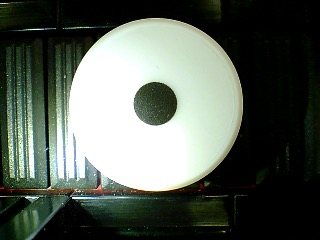BOHO: (67, 17, 244, 193)
